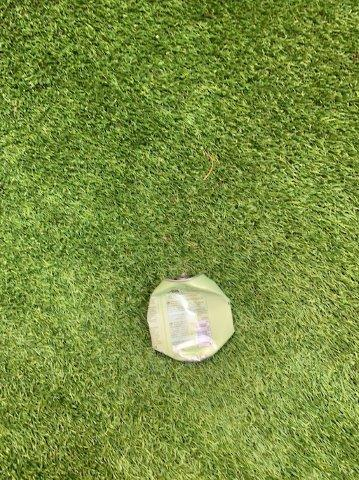kaleng: (145, 273, 235, 364)
